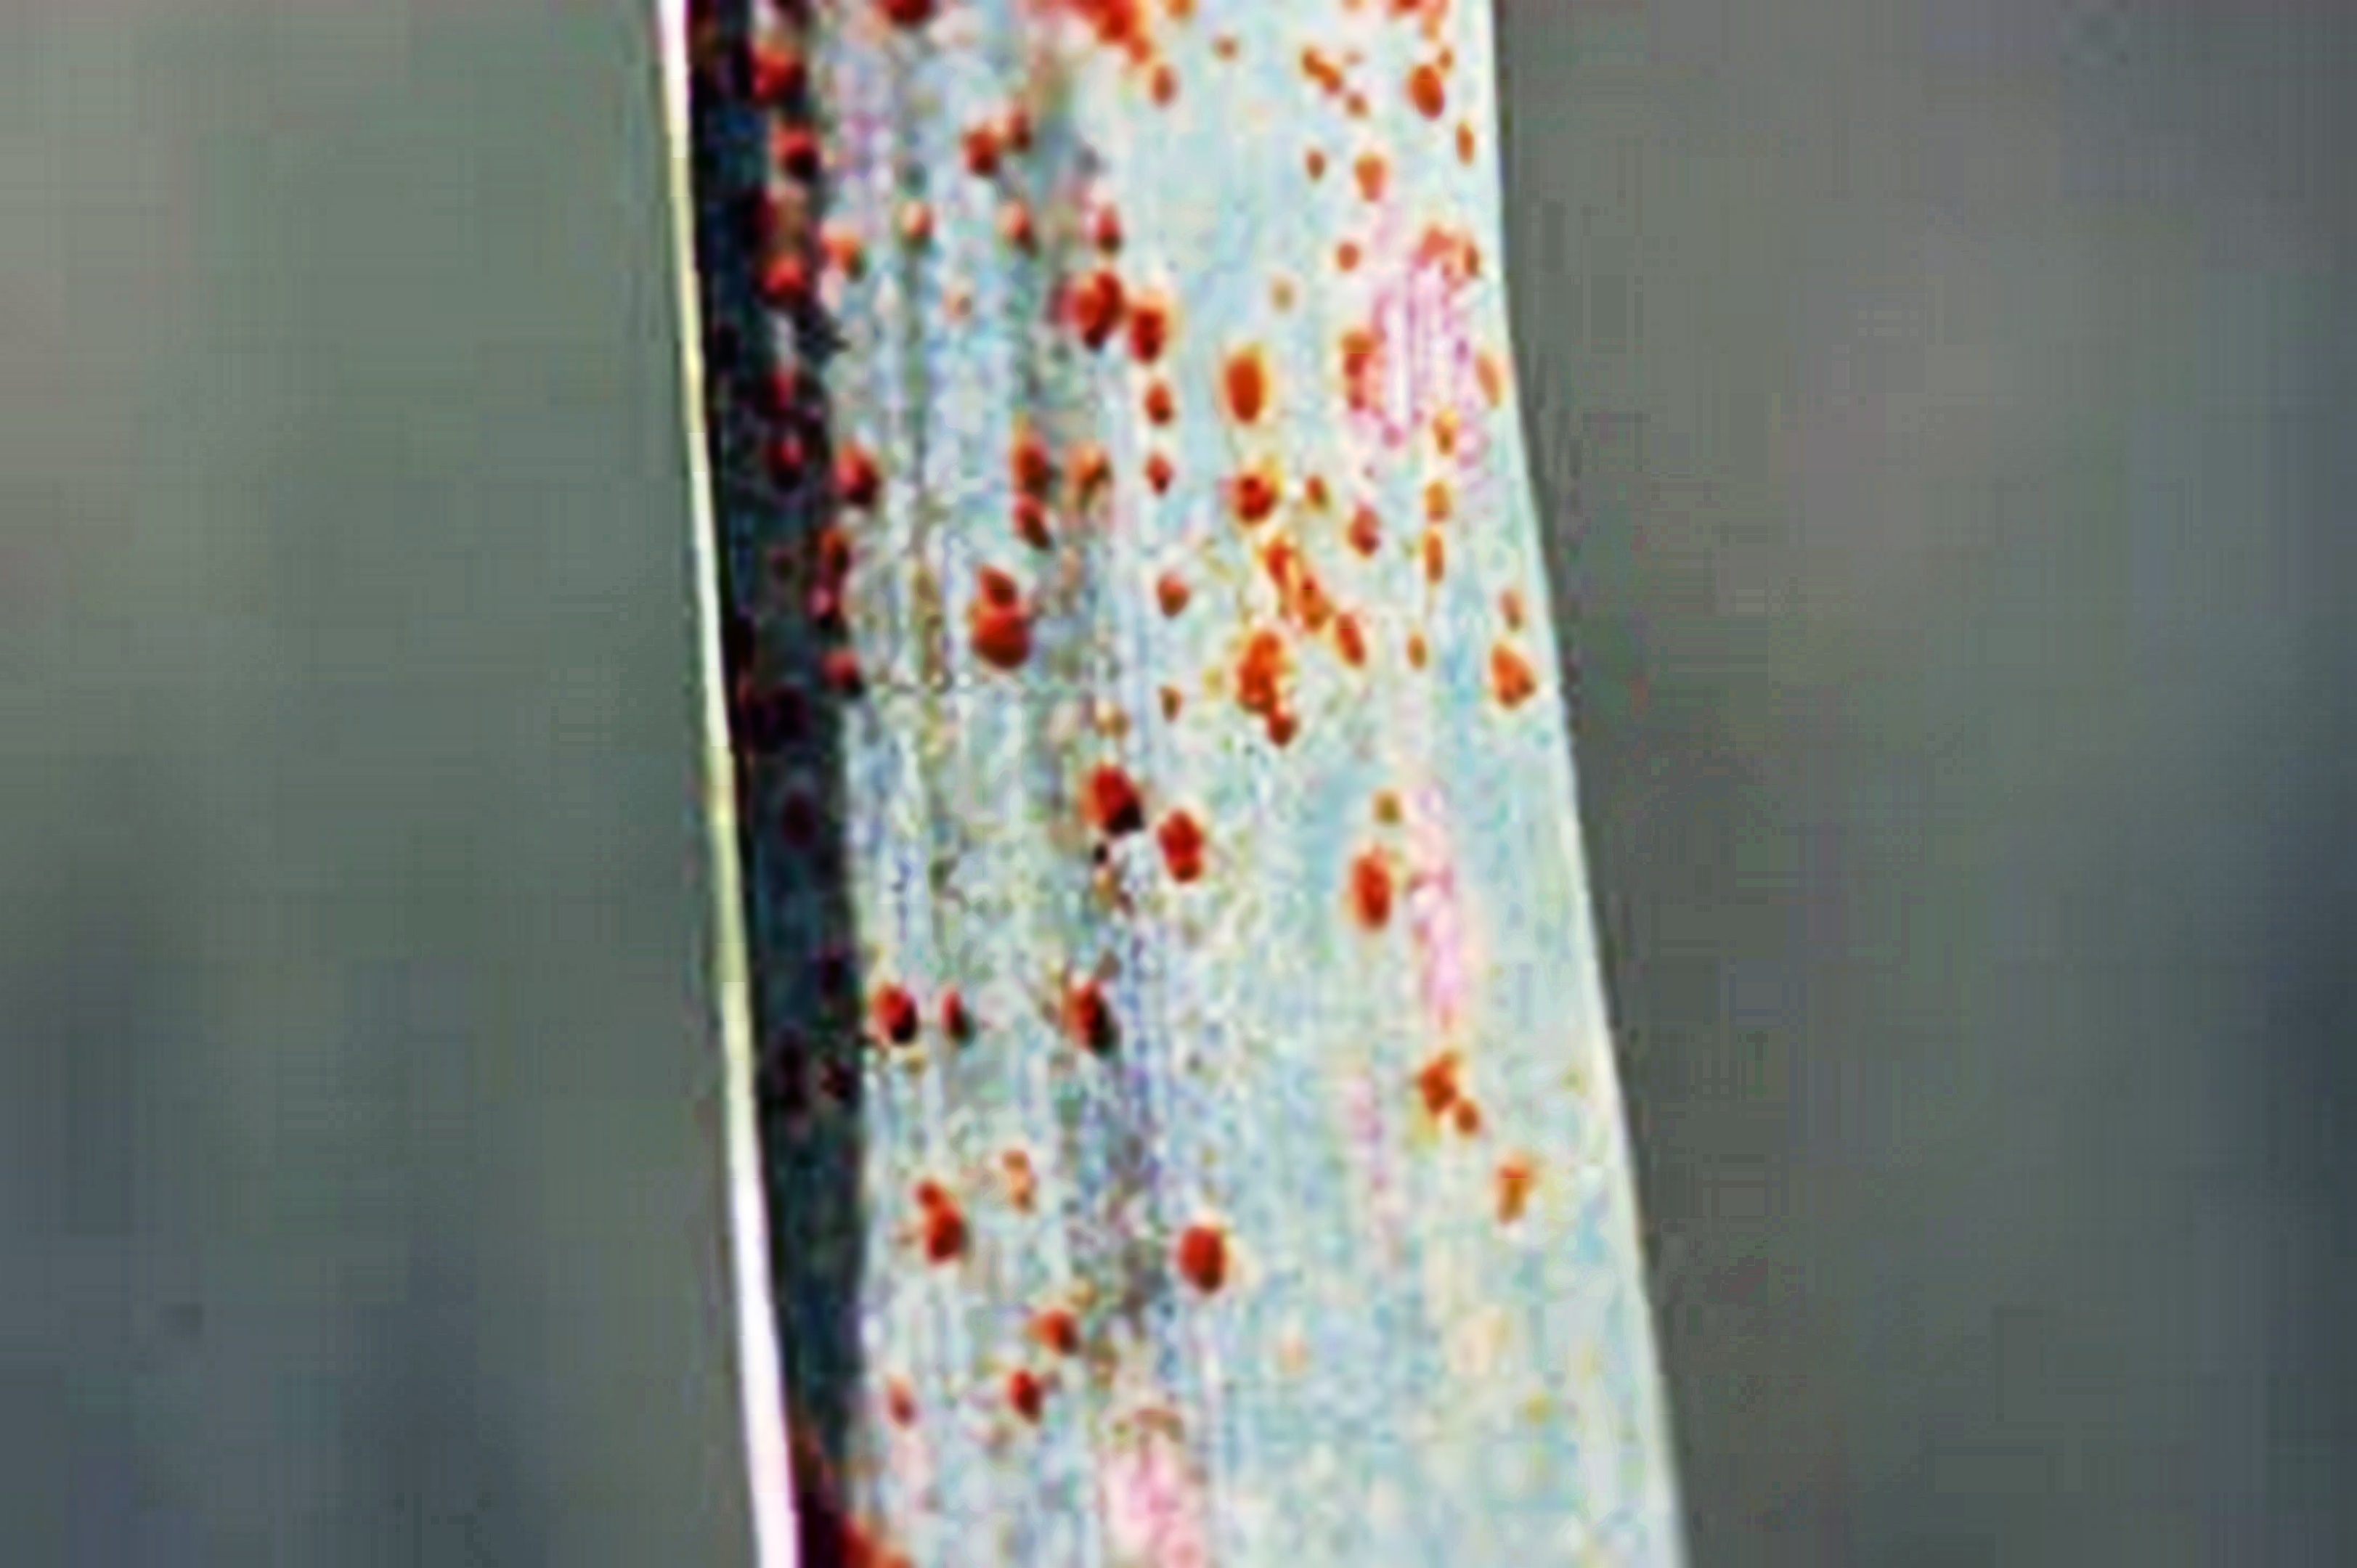Leaf Rust: (691, 80, 1671, 1325)
